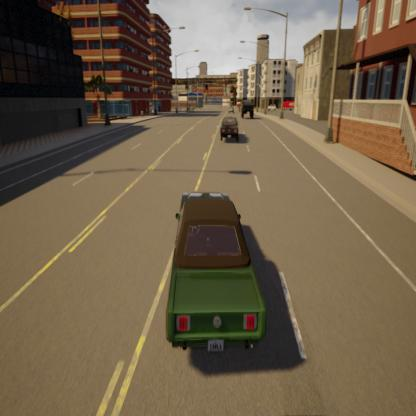Cars: (154, 186, 274, 360), (211, 106, 252, 154), (240, 96, 256, 122), (282, 95, 298, 114), (266, 96, 281, 116)
